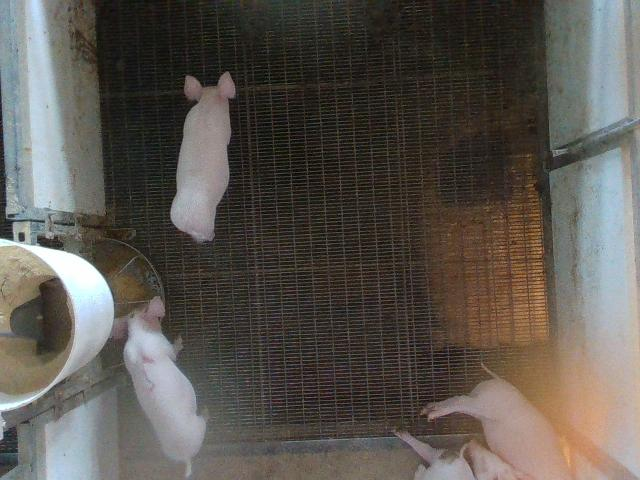pig-5: (111, 296, 206, 477)
